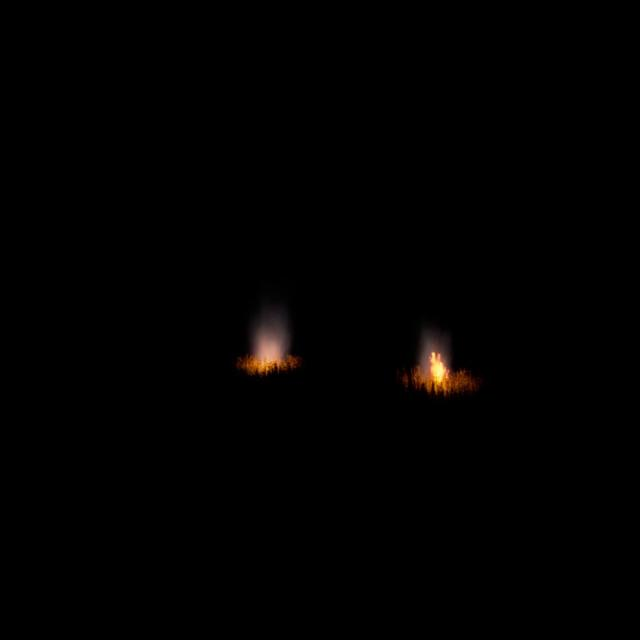fire: (429, 352, 448, 390)
smoke: (250, 311, 290, 361), (420, 333, 447, 383)
